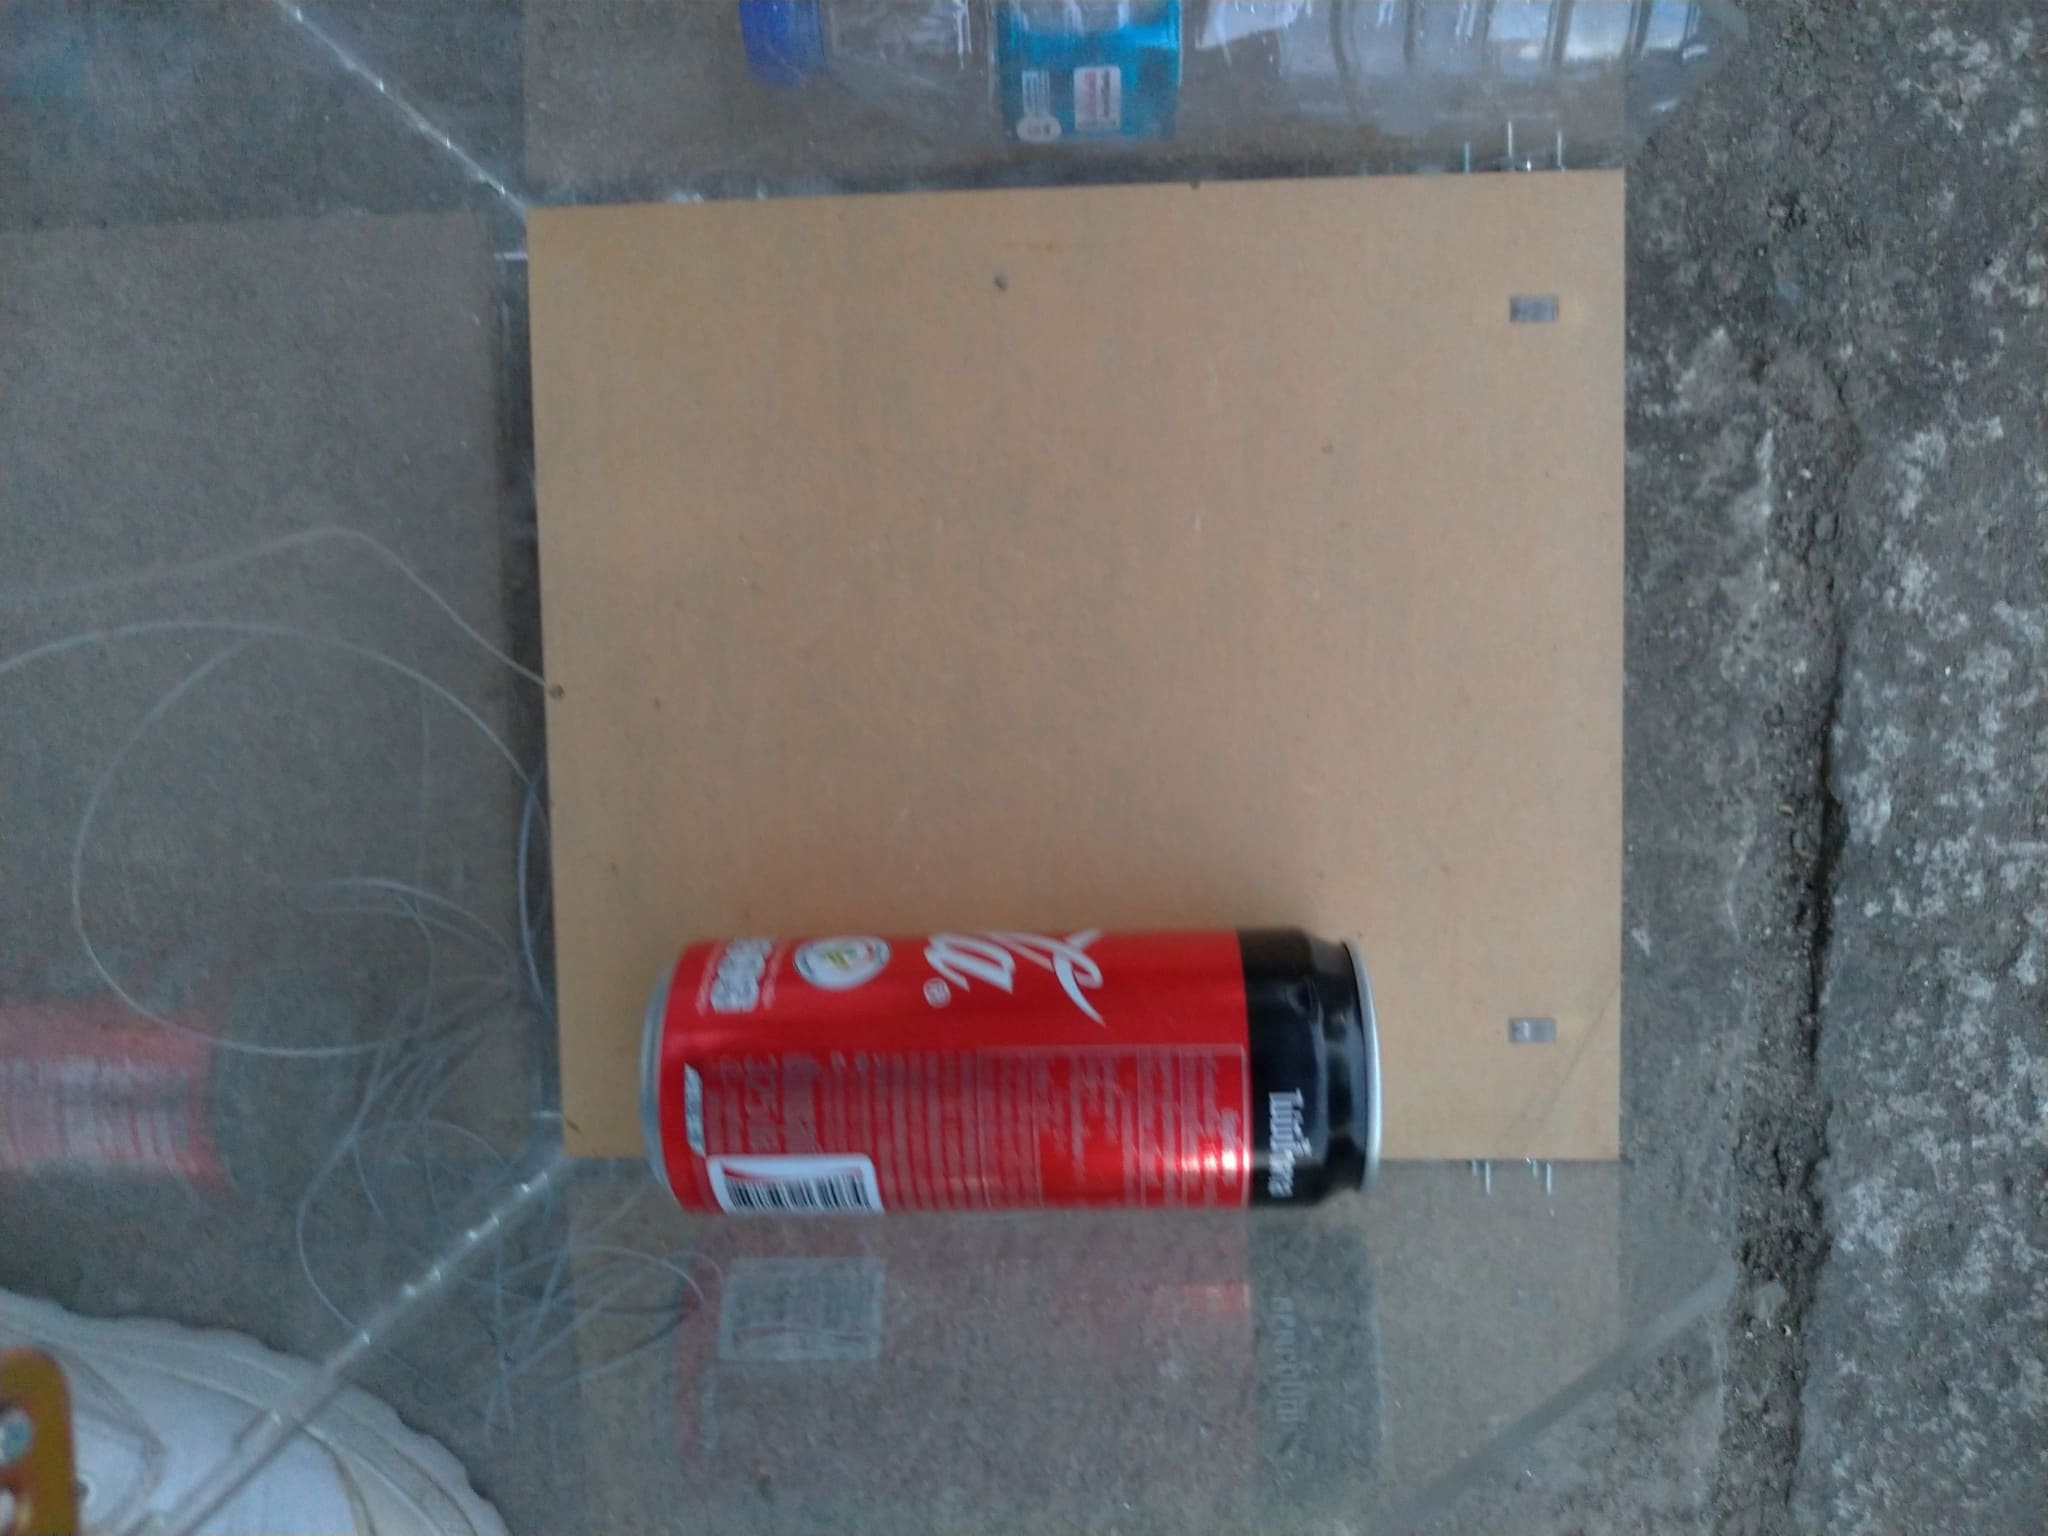AlCan: (639, 921, 1392, 1226)
PlasticBottle: (743, 3, 1725, 176)
